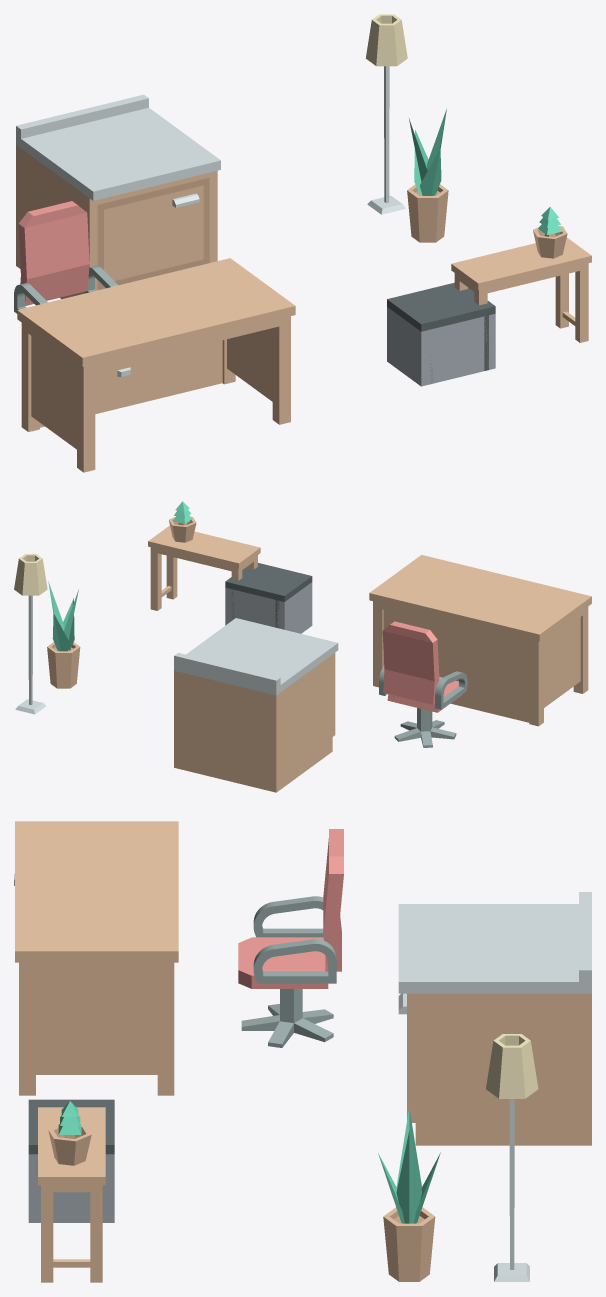
3 views of the same model, one above another, from view 1: azimuth 30°, elevation 25°; view 2: azimuth 150°, elevation 25°; view 3: azimuth 270°, elevation 25° (orthographic). The views are drawn at different scales.
Visible parts, largest first — view 1: desk_blue__desk(Clone), cabinet_blue__kitchenCabinet(Clone), cabinet_blue__door, deskchair_black__chair, sidetable_brown__sideTable(Clone), crate_red__crate_red shell, lamp_white__lampRoundFloor(Clone), crate_red__crate_red lid, plant_pink__pottedPlant(Clone), plant_pink__plant, flowerpot_green__plantSmall1(Clone), desk_blue__drawer; view 2: desk_blue__desk(Clone), cabinet_blue__kitchenCabinet(Clone), deskchair_black__chair, sidetable_brown__sideTable(Clone), crate_red__crate_red shell, crate_red__crate_red lid, lamp_white__lampRoundFloor(Clone), plant_pink__pottedPlant(Clone), deskchair_black__chairDesk(Clone), plant_pink__plant, flowerpot_green__plantSmall1(Clone); view 3: cabinet_blue__kitchenCabinet(Clone), desk_blue__desk(Clone), deskchair_black__chair, sidetable_brown__sideTable(Clone), lamp_white__lampRoundFloor(Clone), plant_pink__pottedPlant(Clone), crate_red__crate_red shell, deskchair_black__chairDesk(Clone), plant_pink__plant, flowerpot_green__plantSmall1(Clone), crate_red__crate_red lid.
Boxes of the visible parts, left/top/right/bottom form: desk_blue__desk(Clone): left=17, top=258, right=295, bottom=472; cabinet_blue__kitchenCabinet(Clone): left=16, top=94, right=220, bottom=299; cabinet_blue__door: left=97, top=177, right=209, bottom=290; deskchair_black__chair: left=14, top=201, right=117, bottom=313; sidetable_brown__sideTable(Clone): left=451, top=237, right=591, bottom=342; crate_red__crate_red shell: left=387, top=307, right=495, bottom=386; lamp_white__lampRoundFloor(Clone): left=365, top=14, right=407, bottom=214; crate_red__crate_red lid: left=387, top=284, right=495, bottom=331; plant_pink__pottedPlant(Clone): left=407, top=184, right=448, bottom=242; plant_pink__plant: left=409, top=108, right=446, bottom=195; flowerpot_green__plantSmall1(Clone): left=533, top=207, right=567, bottom=258; desk_blue__drawer: left=95, top=357, right=152, bottom=386; desk_blue__desk(Clone): left=369, top=555, right=591, bottom=726; cabinet_blue__kitchenCabinet(Clone): left=174, top=618, right=338, bottom=792; deskchair_black__chair: left=379, top=621, right=467, bottom=712; sidetable_brown__sideTable(Clone): left=148, top=525, right=260, bottom=610; crate_red__crate_red shell: left=225, top=582, right=312, bottom=633; crate_red__crate_red lid: left=225, top=563, right=312, bottom=601; lamp_white__lampRoundFloor(Clone): left=14, top=554, right=47, bottom=714; plant_pink__pottedPlant(Clone): left=47, top=642, right=80, bottom=688; deskchair_black__chairDesk(Clone): left=394, top=708, right=456, bottom=747; plant_pink__plant: left=48, top=581, right=78, bottom=651; flowerpot_green__plantSmall1(Clone): left=169, top=501, right=196, bottom=542; cabinet_blue__kitchenCabinet(Clone): left=398, top=892, right=591, bottom=1145; desk_blue__desk(Clone): left=15, top=821, right=178, bottom=1095; deskchair_black__chair: left=238, top=829, right=343, bottom=988; sidetable_brown__sideTable(Clone): left=38, top=1107, right=105, bottom=1282; lamp_white__lampRoundFloor(Clone): left=486, top=1034, right=538, bottom=1281; plant_pink__pottedPlant(Clone): left=383, top=1207, right=435, bottom=1281; crate_red__crate_red shell: left=28, top=1154, right=114, bottom=1222; deskchair_black__chairDesk(Clone): left=241, top=989, right=333, bottom=1047; plant_pink__plant: left=378, top=1108, right=440, bottom=1223; flowerpot_green__plantSmall1(Clone): left=48, top=1101, right=91, bottom=1165; crate_red__crate_red lid: left=28, top=1099, right=114, bottom=1154.
Size of the model in its own units: 3.51 by 1.2 by 2.69.
